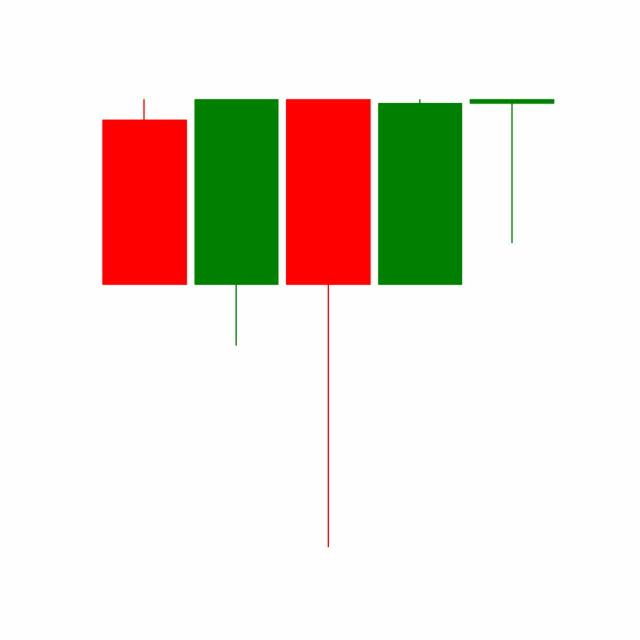Hammer: (464, 96, 558, 245)
